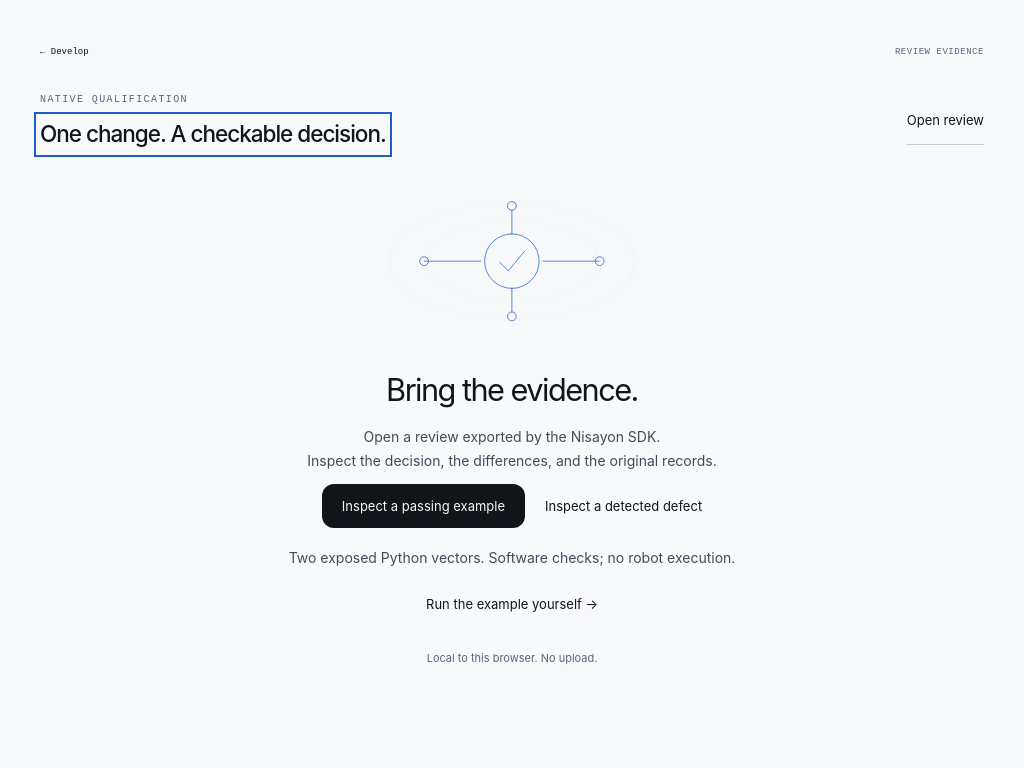
cancels a public example fetch without reporting an import failure
The width and height of the screenshot is (1024, 768).
What coordinates should you click on to do the following:
click the button "Inspect a passing example"
I would click on:
 (423, 506)
Its box is top-left (322, 484), bottom-right (525, 528).
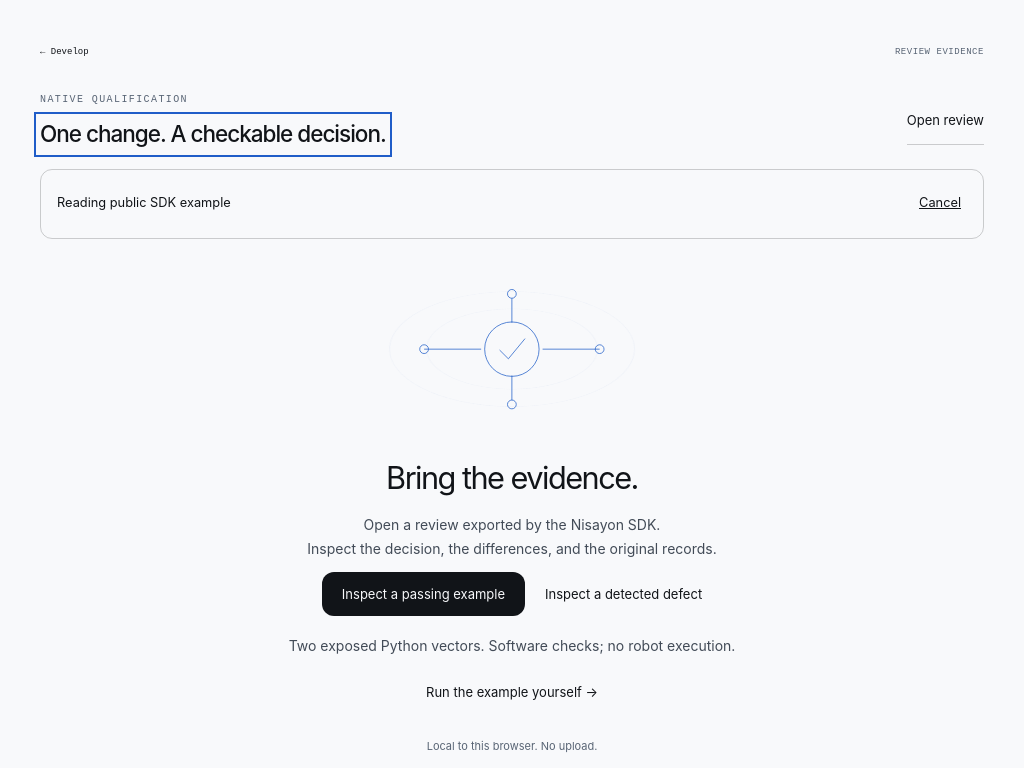
Result: the button "Cancel" is shown
What coordinates should you click on to do the following:
click the button "Cancel"
I would click on:
 (940, 204)
Its box is top-left (913, 182), bottom-right (967, 226).
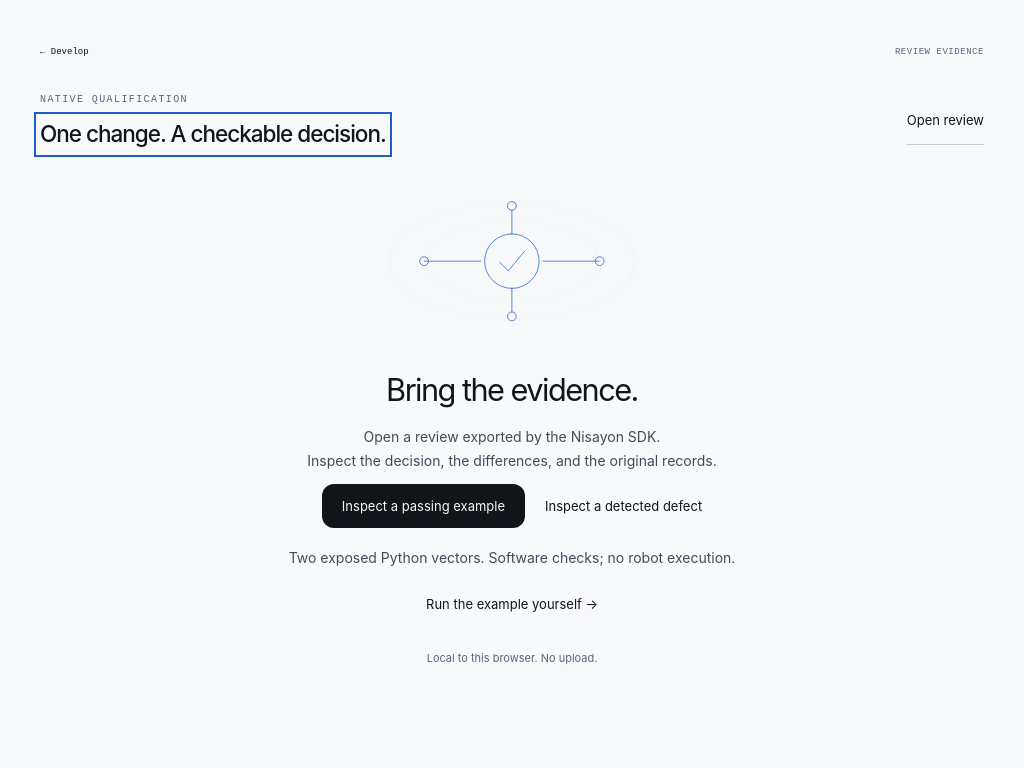
Result: the message "Reading public SDK example Cancel" is gone
